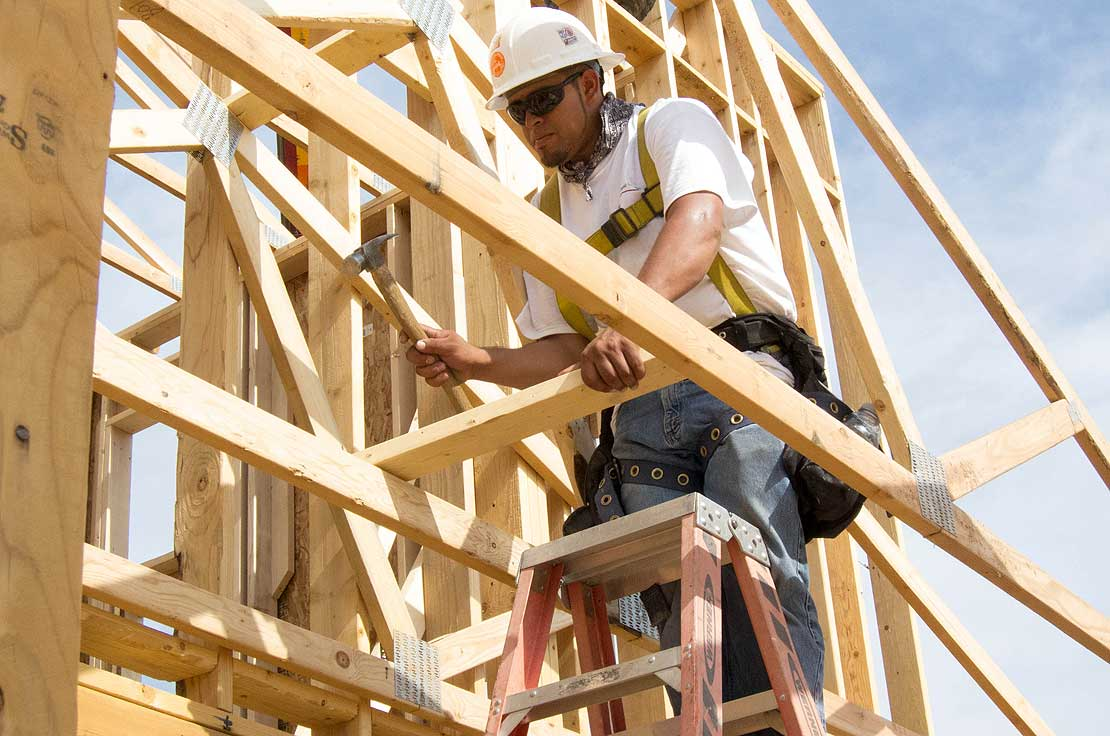hard hat: (483, 6, 627, 125)
